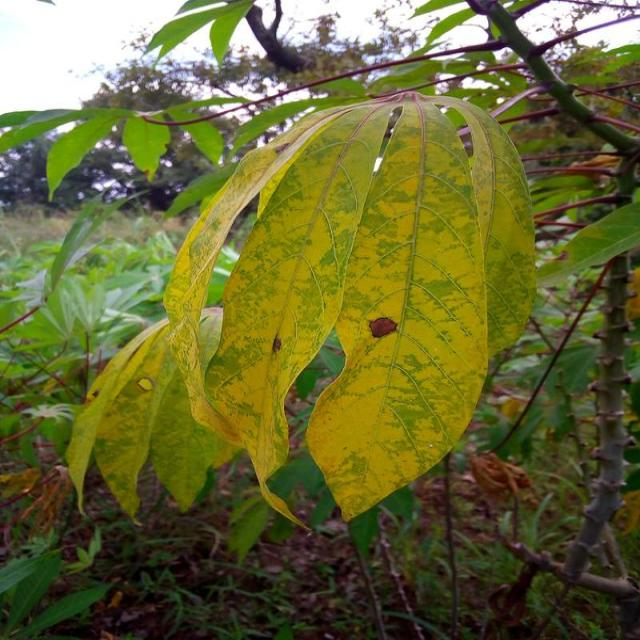cassava leaf: (66, 89, 536, 531), (303, 94, 489, 521)
